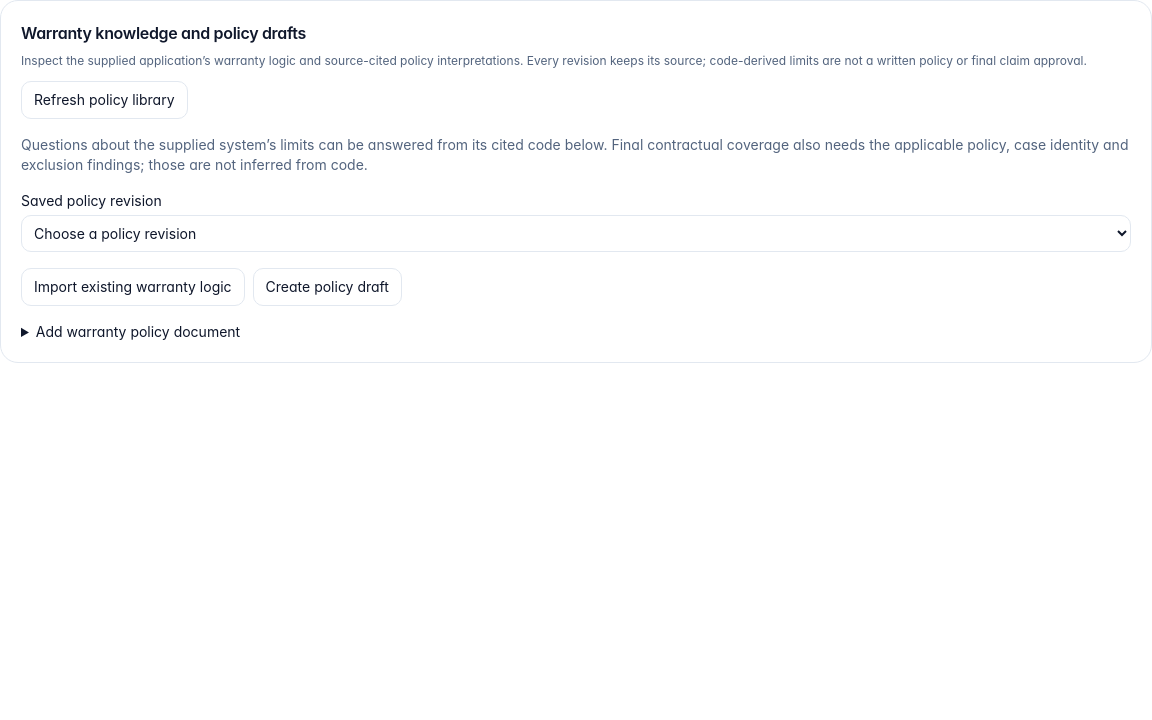
Scenario: views immutable policy evidence and starts a new revision with the selected base revision
Later steps or results of the test are not shown.
Select "Fixture policy draft · Revision 1 · Policy document draft" in the dropdown labelled "Saved policy revision" at (576, 234), box left=21, top=215, right=1131, bottom=252
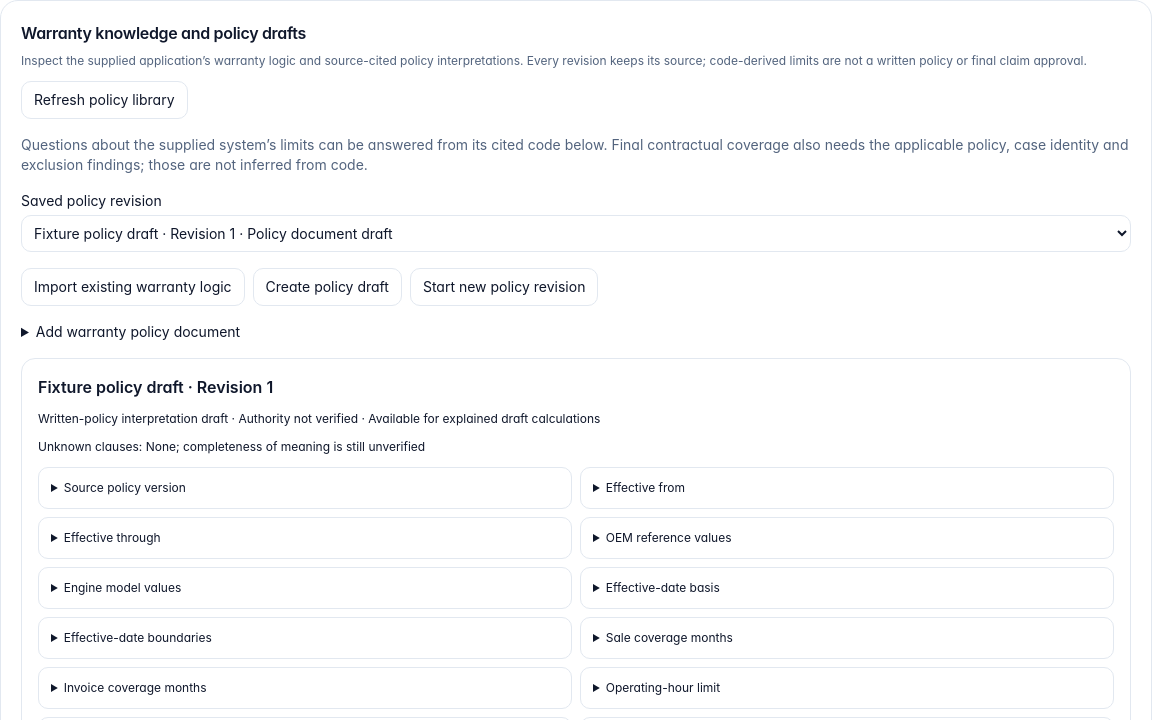
Expected: the text "Authority not verified" is shown, left=228, top=411, right=600, bottom=426
